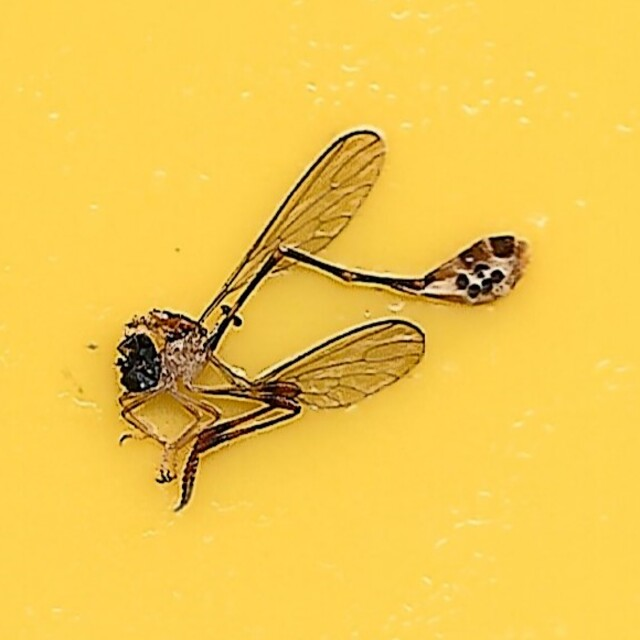Nematocera: (110, 126, 530, 514)
